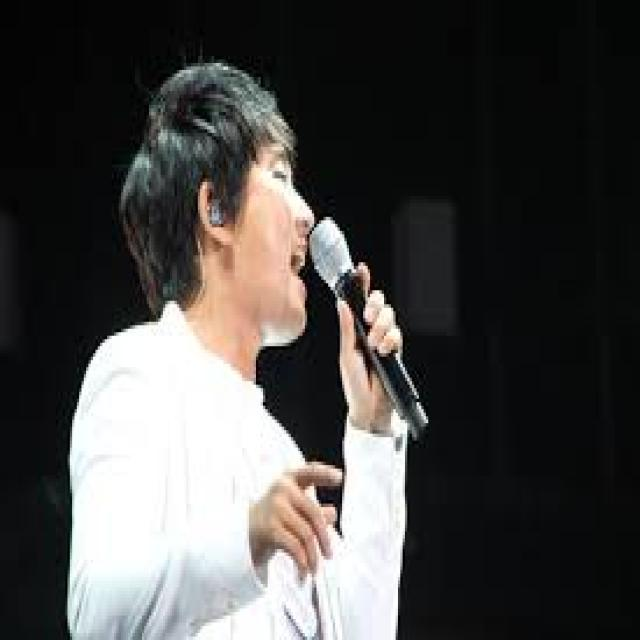earphone: (192, 186, 232, 244)
